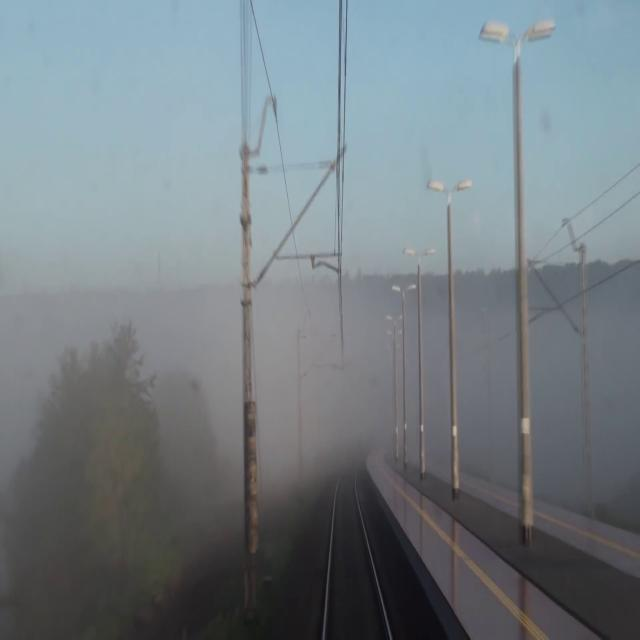rail-track: (327, 472, 387, 639)
